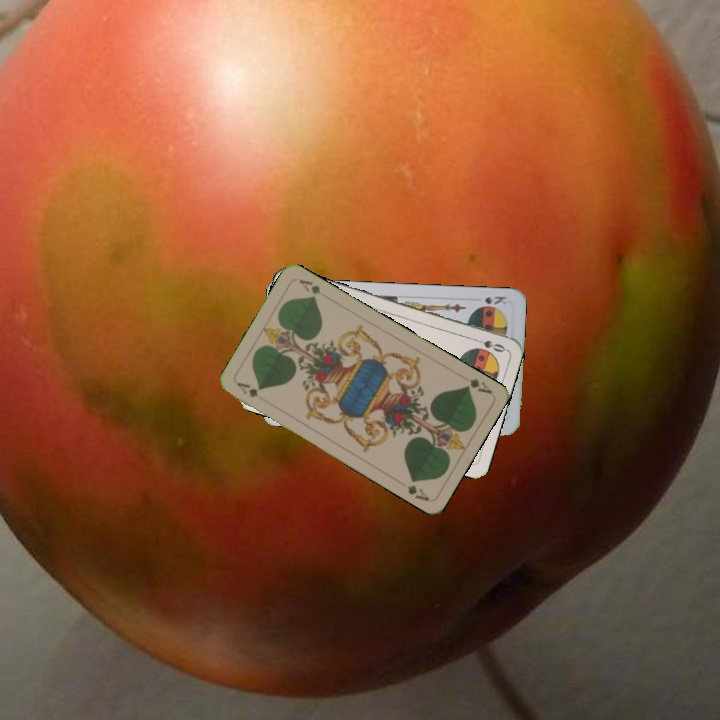GA: (461, 374, 494, 396), (233, 378, 263, 400)
SK: (475, 292, 509, 310)
SO: (468, 334, 508, 355)
